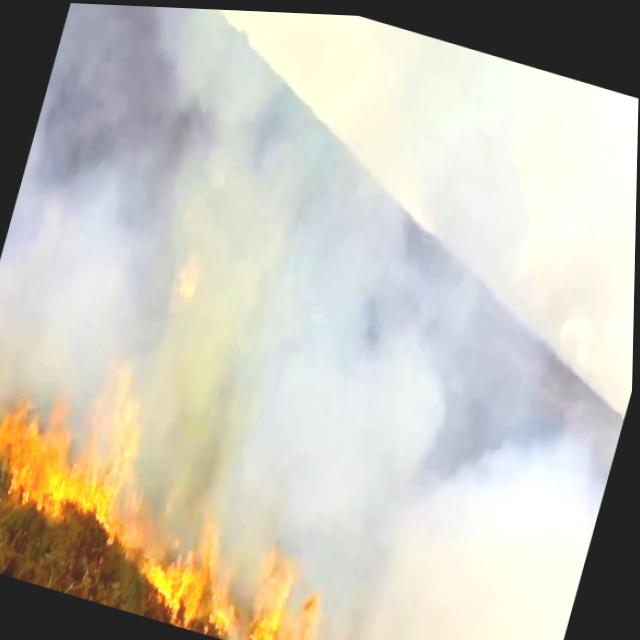fire: (0, 367, 153, 535), (234, 601, 378, 640)
smoke: (83, 3, 587, 501), (409, 408, 616, 640)
